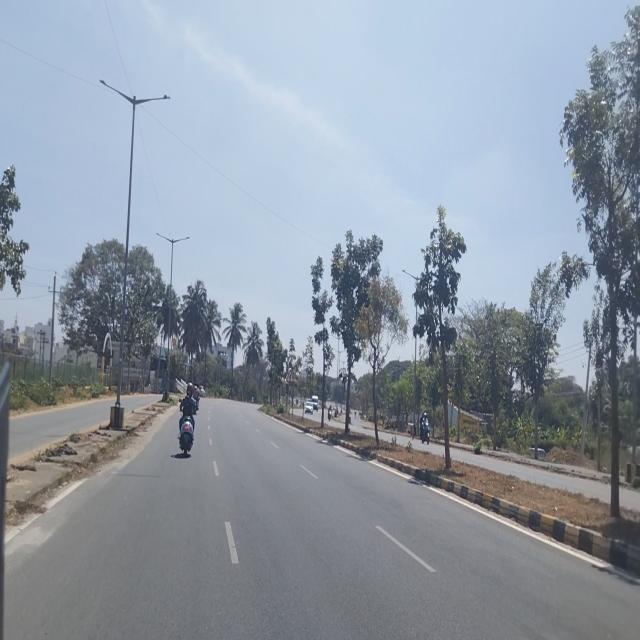bien_cam: (286, 368, 294, 385)
